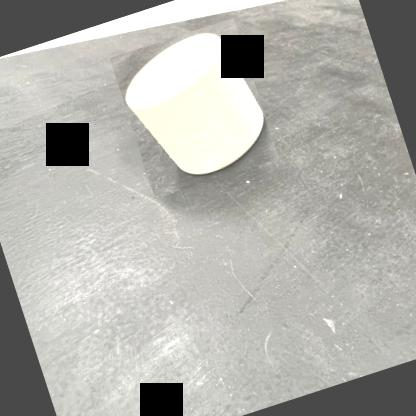white cylinder: (110, 18, 280, 199)
